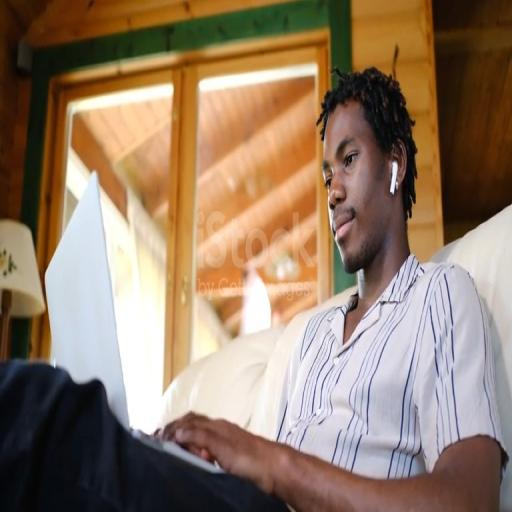earphone: (388, 160, 400, 202)
